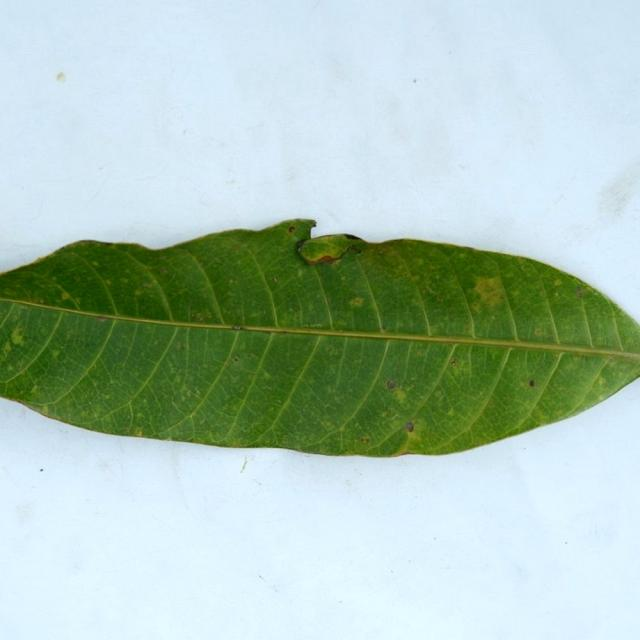Mango: (0, 220, 639, 456)
Powdery_Mildew: (471, 275, 508, 311), (6, 326, 27, 347), (169, 393, 187, 416), (340, 244, 362, 259), (405, 427, 422, 445), (380, 406, 400, 420), (391, 386, 407, 401), (295, 238, 308, 255), (190, 311, 208, 323), (423, 284, 437, 296), (349, 297, 364, 307), (2, 341, 12, 355), (302, 322, 325, 328), (30, 385, 40, 395), (40, 405, 50, 415), (60, 291, 71, 300), (77, 240, 100, 244), (134, 288, 144, 297), (262, 370, 271, 380), (575, 286, 584, 296), (405, 422, 414, 432), (56, 72, 65, 82), (134, 427, 143, 436), (184, 388, 193, 397), (65, 330, 74, 339), (387, 380, 396, 389), (534, 327, 544, 335), (414, 258, 424, 266), (142, 281, 153, 288), (51, 349, 60, 357), (553, 278, 562, 286), (447, 408, 456, 416), (411, 274, 420, 282), (434, 390, 443, 398), (258, 309, 267, 317), (360, 436, 370, 443), (97, 315, 108, 321), (332, 259, 340, 267), (436, 295, 445, 302), (232, 325, 244, 330), (599, 376, 606, 384), (175, 341, 182, 349), (450, 358, 457, 366), (159, 267, 167, 274), (379, 327, 388, 333), (278, 329, 288, 334), (136, 412, 143, 419), (288, 226, 295, 233), (142, 398, 148, 405), (190, 312, 196, 319), (195, 388, 201, 395), (206, 311, 212, 318), (529, 380, 535, 387), (214, 257, 221, 263), (288, 309, 295, 315), (233, 356, 239, 362), (92, 261, 99, 266), (236, 316, 243, 321), (341, 275, 346, 281), (273, 277, 278, 282), (554, 292, 559, 297), (125, 426, 130, 431), (39, 299, 44, 304), (608, 358, 613, 363)
